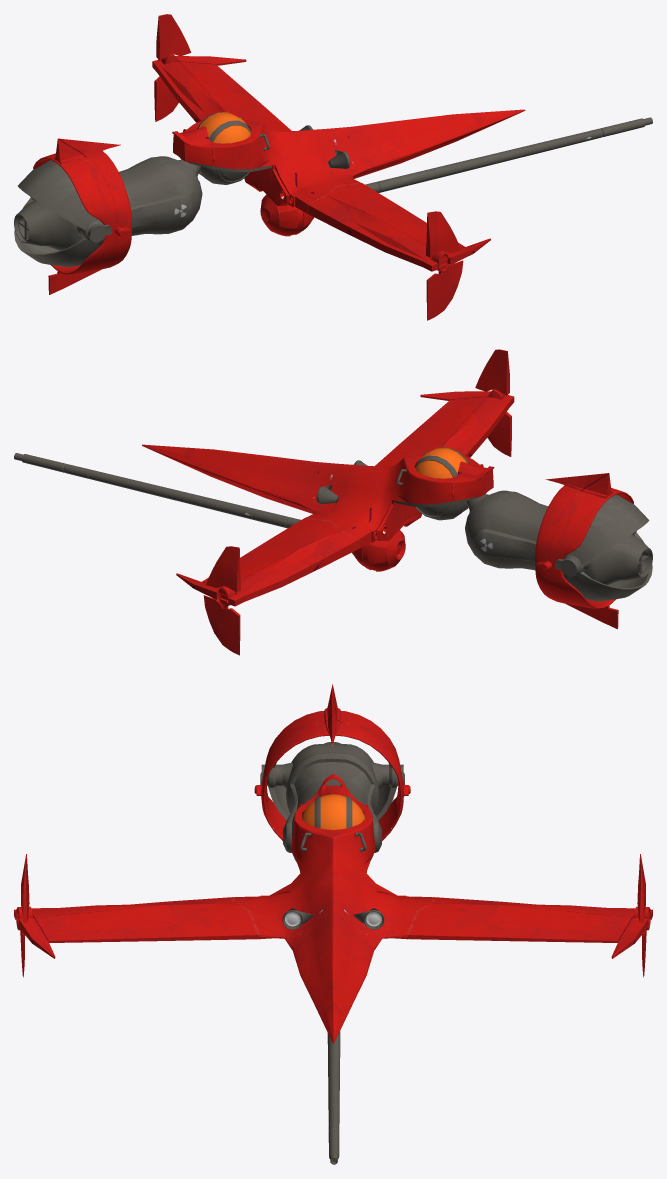
File: Swordfish.fbx
3 views of the same model, one above another, from view 1: azimuth 30°, elevation 25°; view 2: azimuth 150°, elevation 25°; view 3: azimuth 270°, elevation 25° (orthographic). The views are drawn at different scales.
Parts seen in each view (by area): view 1: Cube, Sphere, Sphere.003, Cube.002, Sphere.004, Sphere.001; view 2: Cube, Sphere, Sphere.003, Cube.002, Sphere.004, Sphere.001; view 3: Cube, Sphere, Sphere.003, Sphere.004, Cube.002, Cylinder.
Part boxes in pixels (bbox=[...]): Cube: bbox=[152, 14, 525, 320]; Sphere: bbox=[14, 156, 202, 267]; Sphere.003: bbox=[33, 138, 131, 294]; Cube.002: bbox=[260, 117, 652, 236]; Sphere.004: bbox=[197, 112, 251, 143]; Sphere.001: bbox=[199, 166, 249, 184]; Cube: bbox=[142, 349, 514, 655]; Sphere: bbox=[465, 490, 652, 601]; Sphere.003: bbox=[535, 473, 633, 629]; Cube.002: bbox=[14, 453, 405, 571]; Sphere.004: bbox=[414, 447, 468, 478]; Sphere.001: bbox=[415, 501, 468, 520]; Cube: bbox=[14, 774, 652, 1043]; Sphere: bbox=[260, 742, 404, 862]; Sphere.003: bbox=[254, 684, 410, 840]; Sphere.004: bbox=[302, 794, 364, 829]; Cube.002: bbox=[327, 1031, 340, 1164]; Cylinder: bbox=[282, 908, 384, 929].
Size of the model in its own units: 1174 by 275 by 902.
